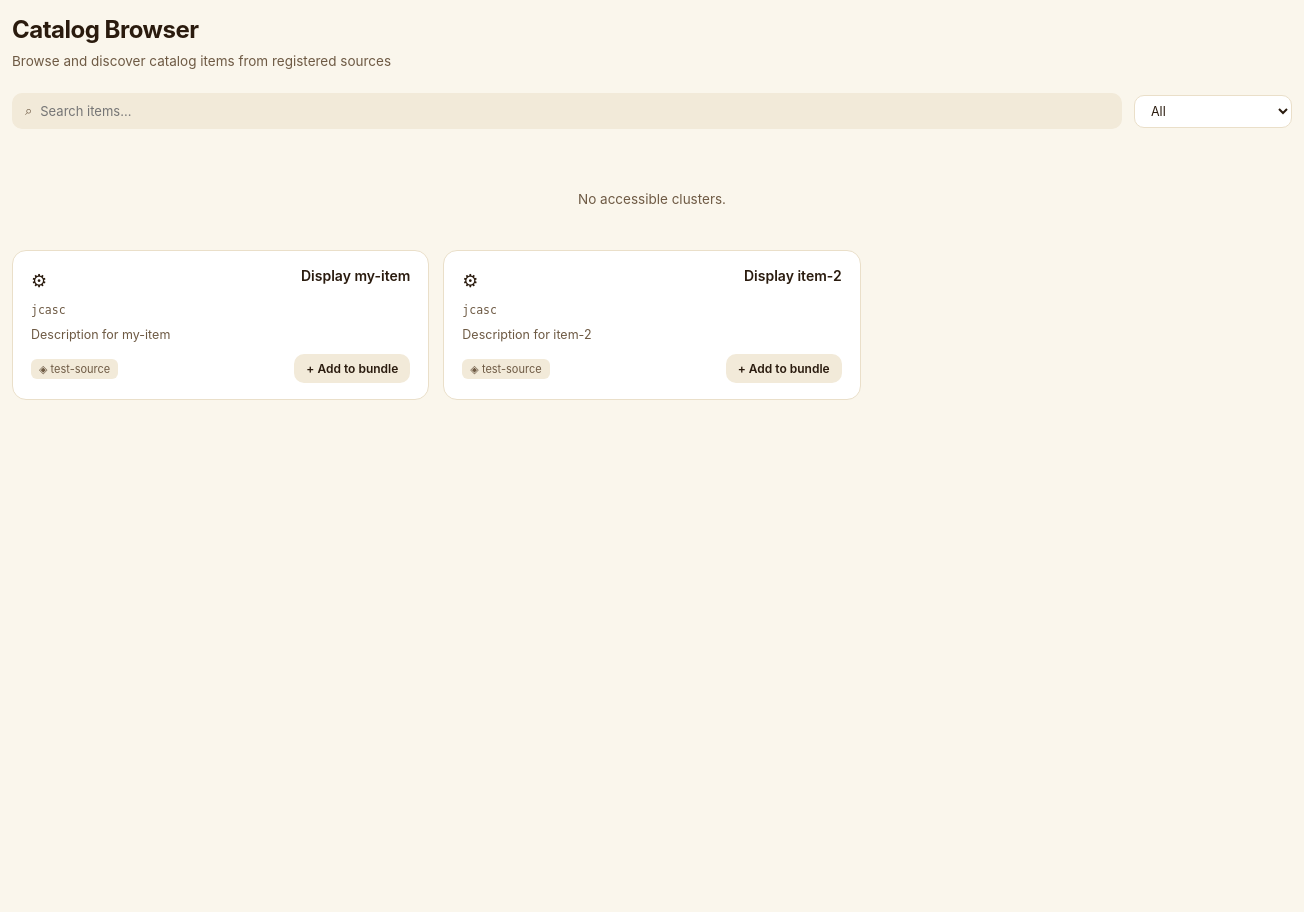
Test: CatalogBrowser › Composer integration › shows FAB with item count when composer has items
Note: Add one item
Click the button "+ Add to bundle" below "Description for my-item": (352, 369) [294,354,410,383]
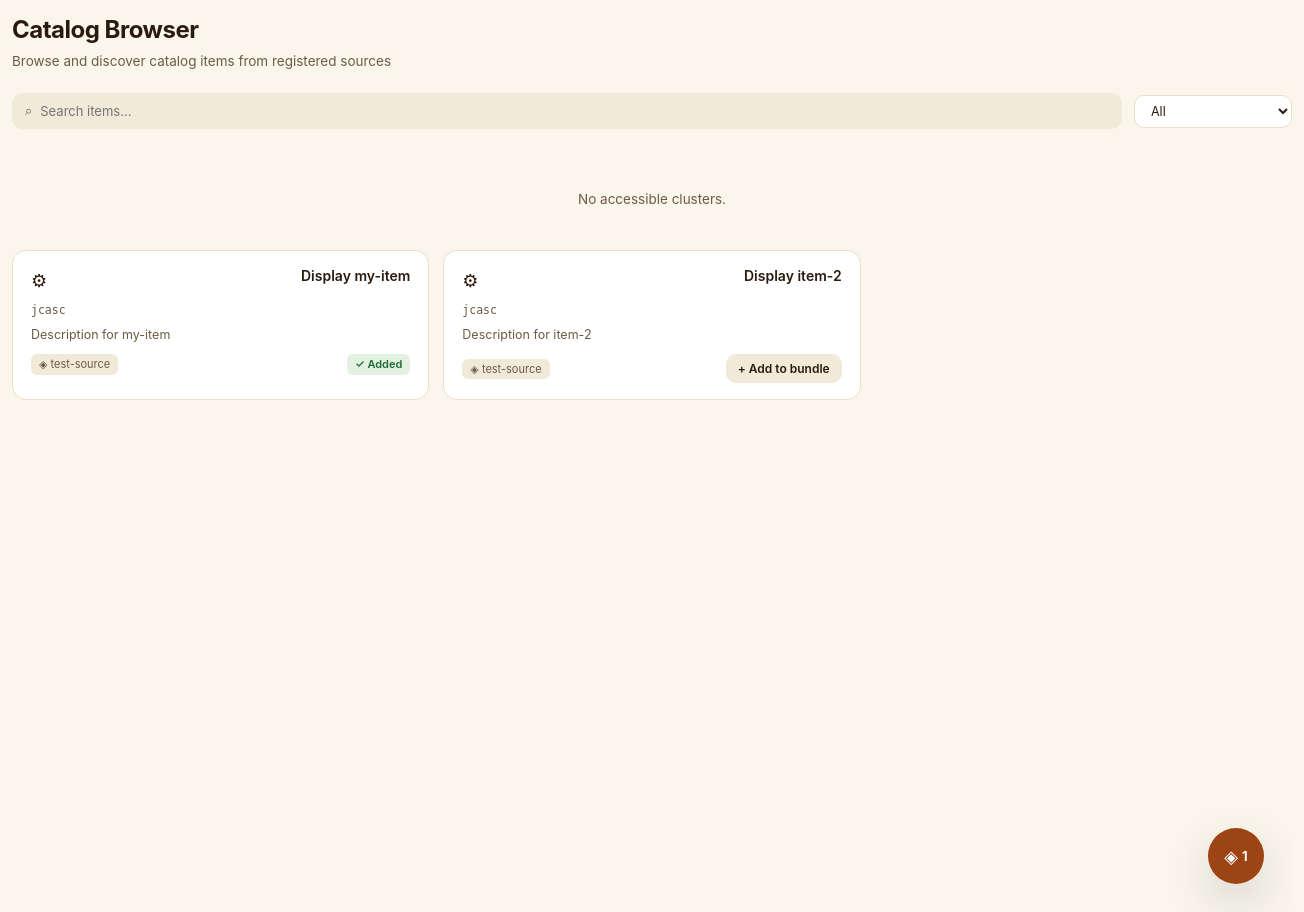
Expected: the button titled "Open bundle composer" is shown, [1208,828,1264,884]
Expected: the text "1" is shown, [1242,848,1248,864]
